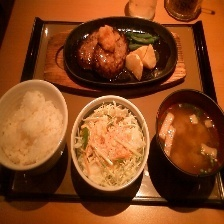rice: (0, 88, 69, 167)
